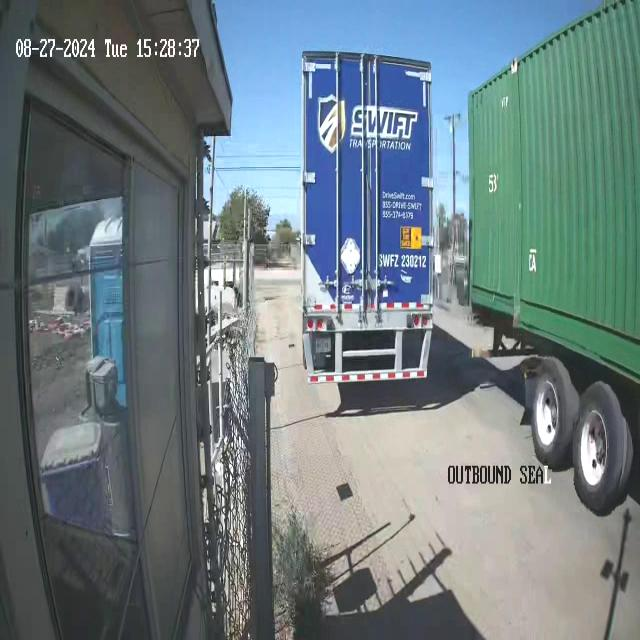CONTAINER: (464, 5, 638, 384), (300, 49, 435, 385)
